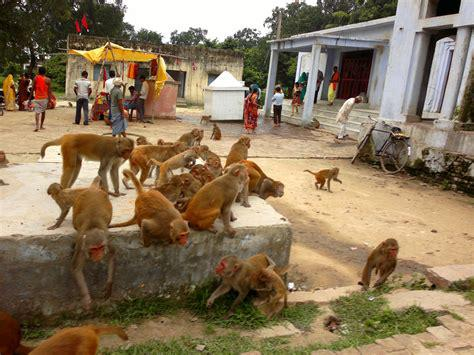monkey: (70, 175, 113, 311), (40, 133, 133, 192), (123, 168, 189, 246), (182, 163, 248, 236), (206, 254, 291, 305), (358, 237, 398, 291), (237, 160, 284, 199), (304, 166, 341, 193), (225, 135, 250, 168), (178, 128, 198, 146), (210, 124, 222, 140), (200, 115, 212, 125)
